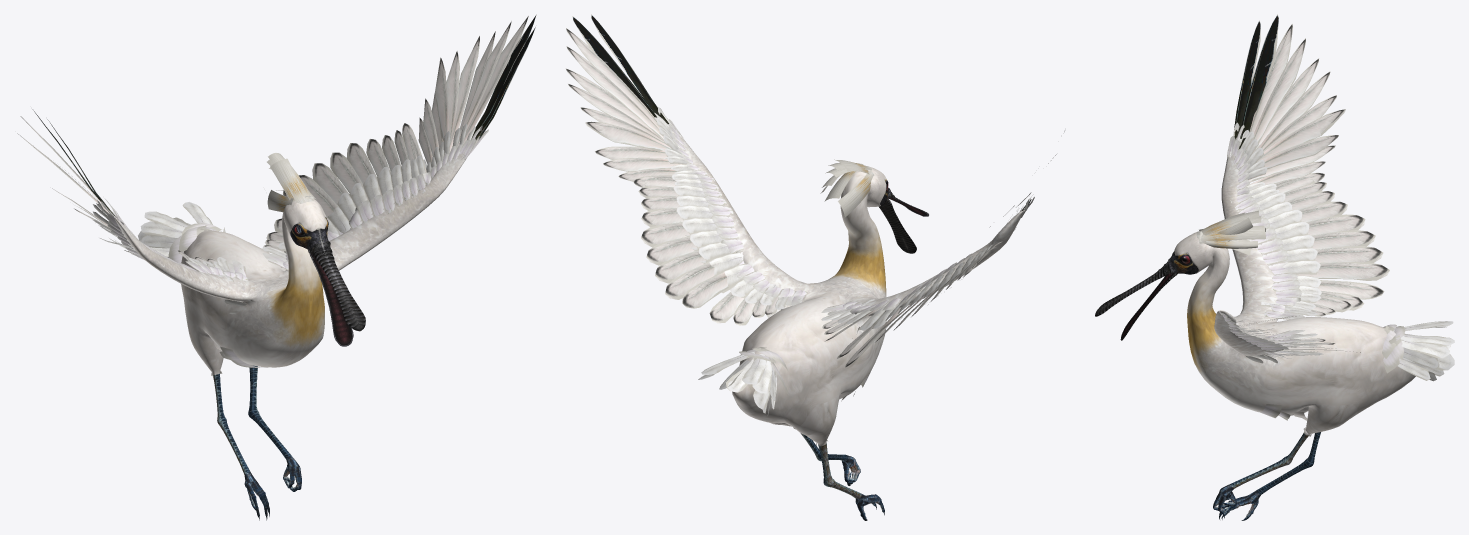
File: black.glb
The picture shows the model from 3 angles, left to right: view 1: azimuth 30°, elevation 25°; view 2: azimuth 150°, elevation 25°; view 3: azimuth 270°, elevation 25°; orthographic projection. The views are drawn at different scales.
Visible parts, largest first — view 1: Box003Mesh; view 2: Box003Mesh; view 3: Box003Mesh.
Boxes of the visible parts, box(x1,y1,x2,y2) form: Box003Mesh: box(17, 14, 536, 520); Box003Mesh: box(565, 14, 1064, 520); Box003Mesh: box(1095, 14, 1454, 520).
Bounding box in the file's own units: 0.0206 × 0.0176 × 0.0139.
16 materials, 16 textured.
